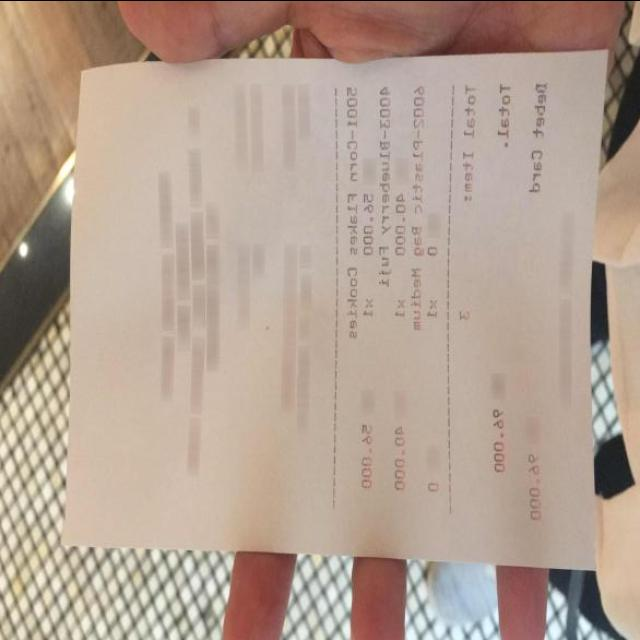kertas: (62, 36, 608, 567)
